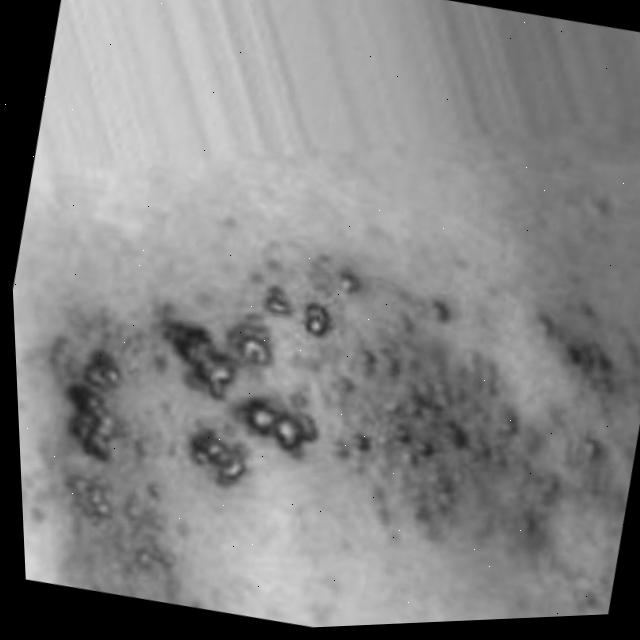Shingles: (9, 175, 640, 640)
